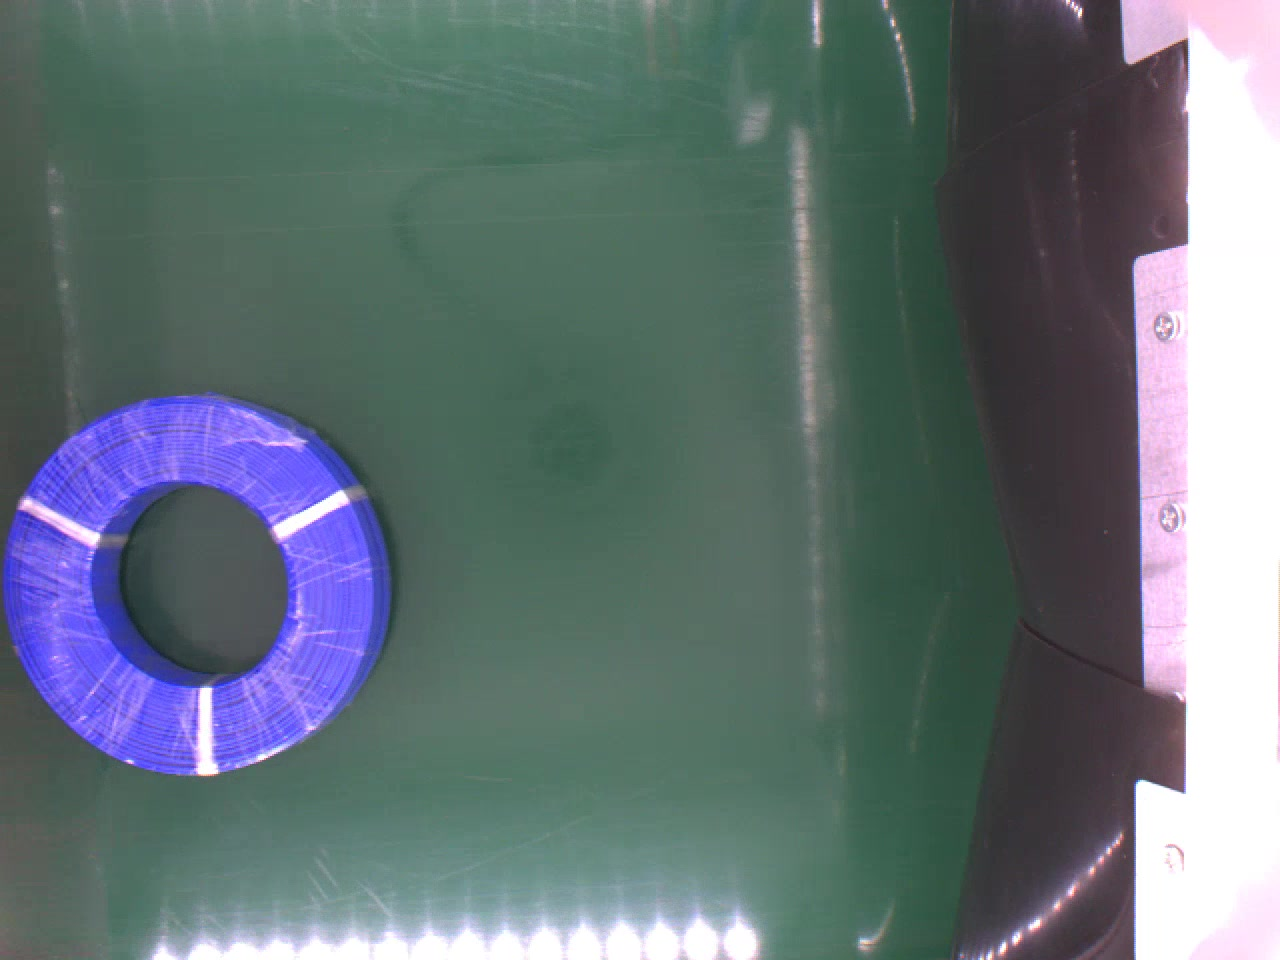blue: (10, 389, 393, 772)
